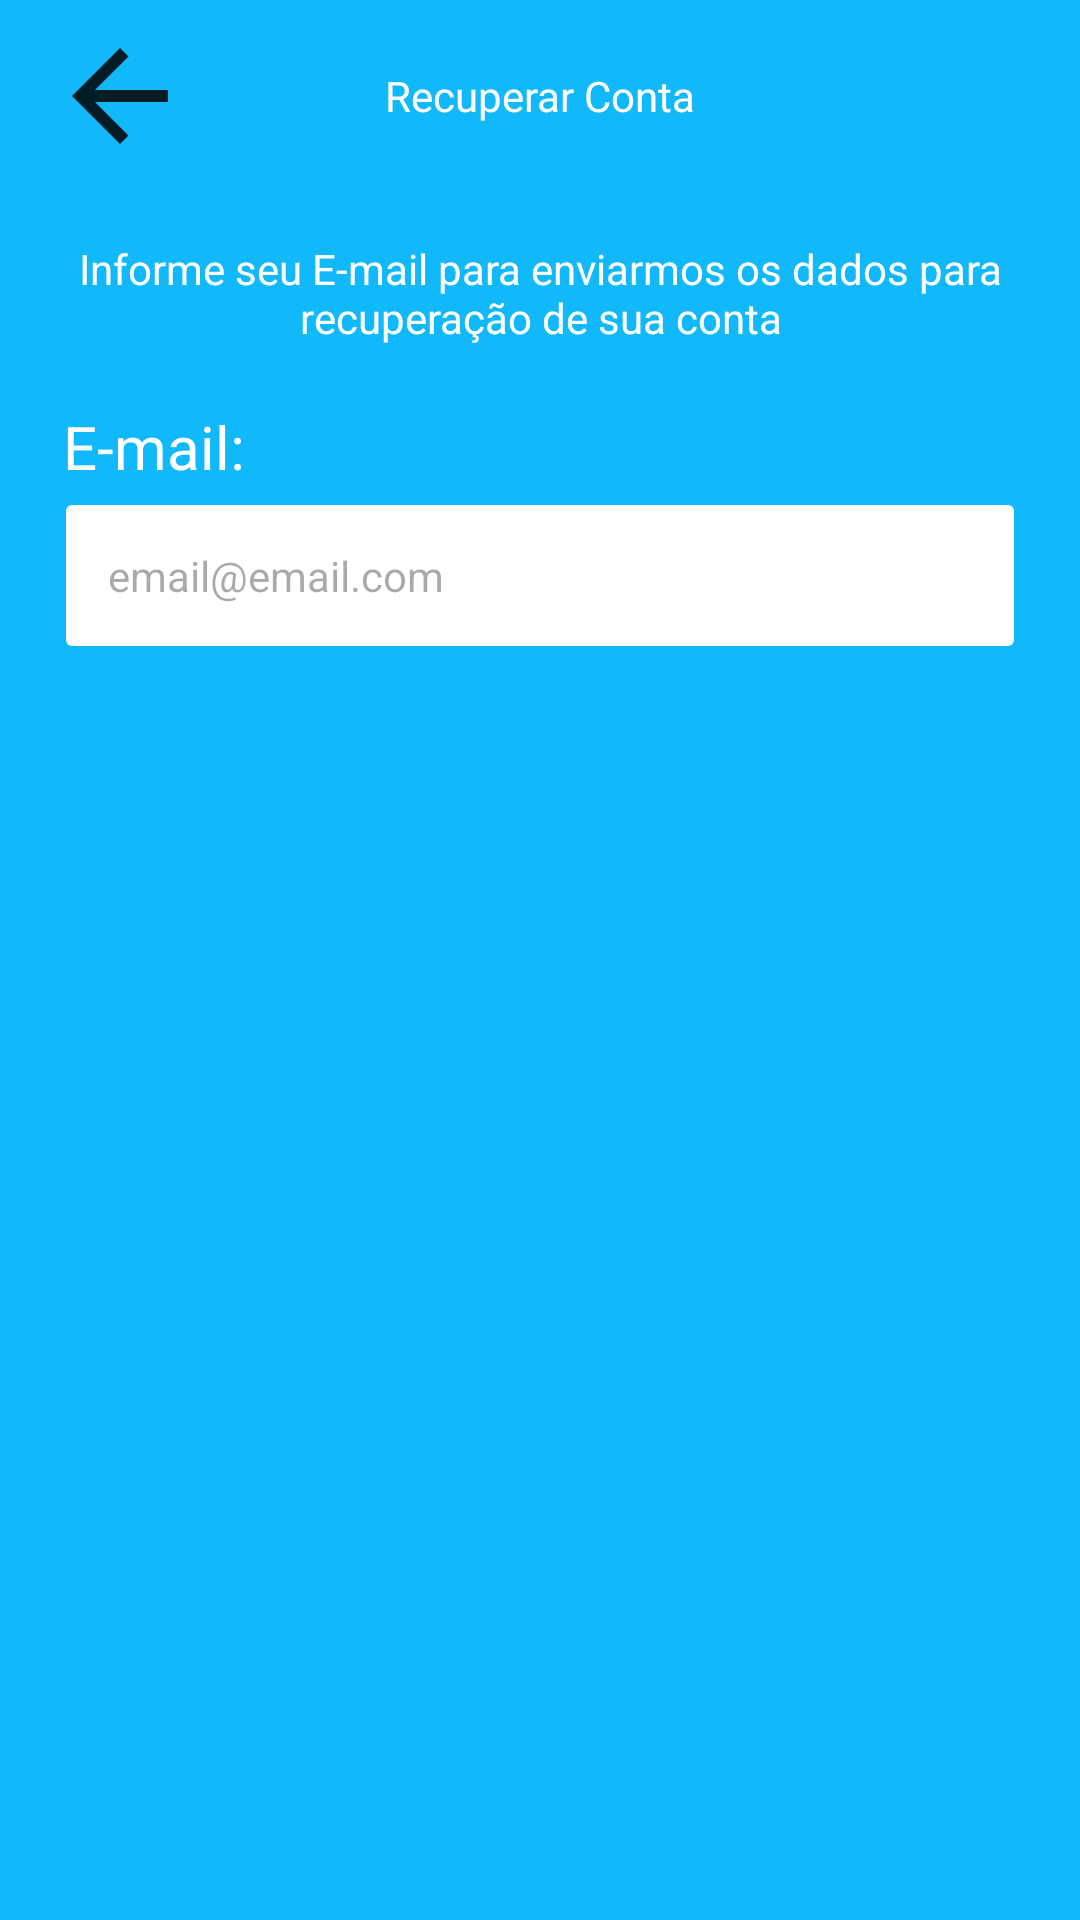

Named icons in this screenshot (1080*1920) and their bounding boxes, (x1, y1, x2, y2):
arrow back: (72, 48, 168, 144)
